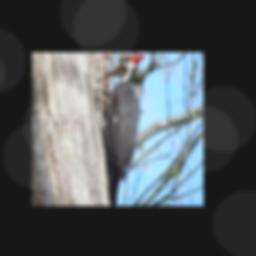Woodpecker: (99, 54, 145, 181)
